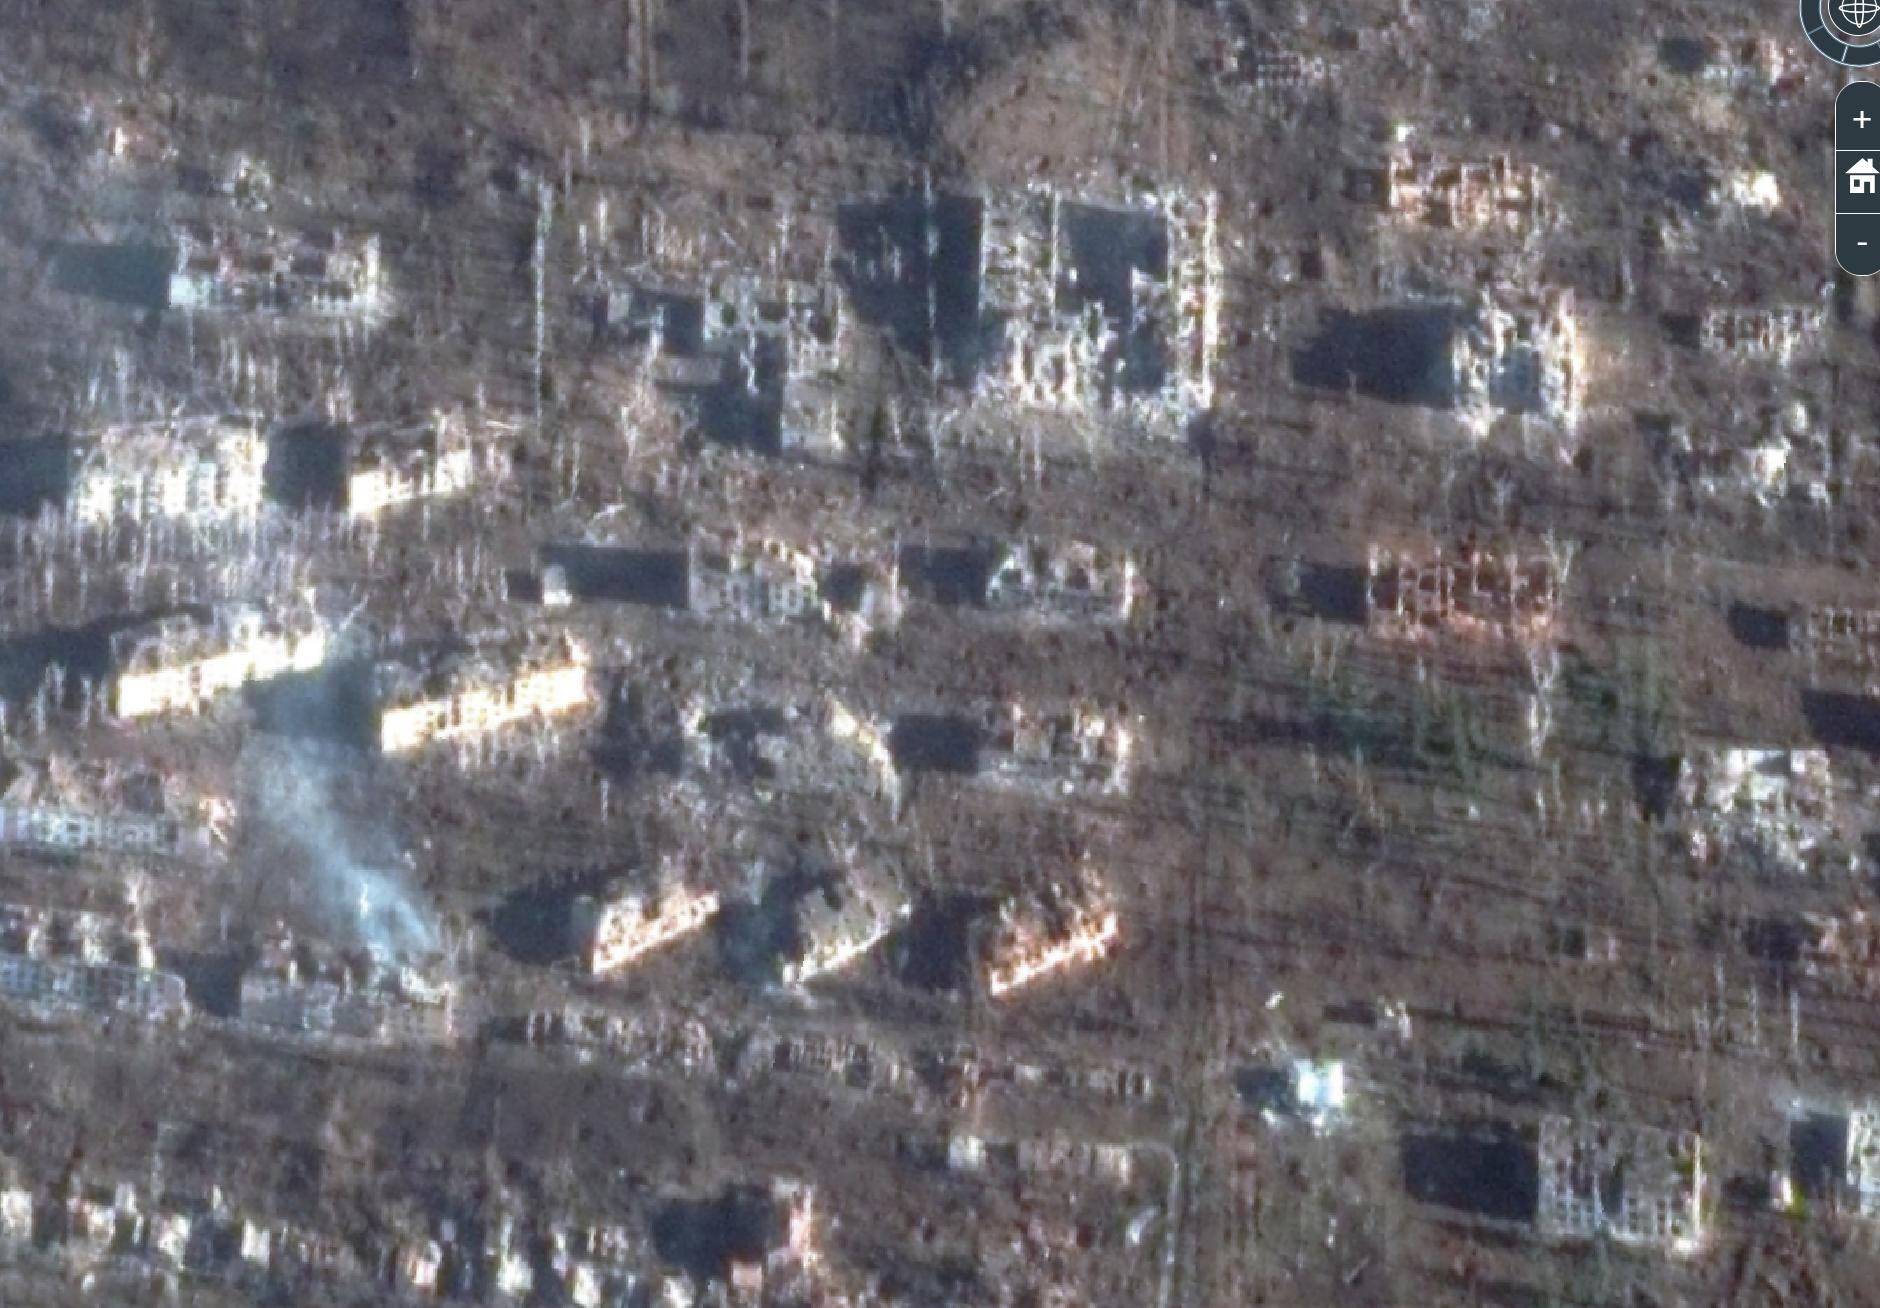demaged-building-high: (544, 191, 879, 483), (986, 177, 1219, 424), (364, 613, 599, 773), (93, 577, 329, 734), (1419, 274, 1607, 441), (51, 423, 284, 535), (683, 515, 907, 633), (333, 393, 527, 527), (680, 697, 909, 808), (0, 763, 247, 865), (956, 858, 1144, 991), (151, 234, 407, 328), (1677, 738, 1853, 872), (1364, 533, 1563, 650), (744, 857, 914, 988), (557, 851, 720, 980), (1381, 133, 1574, 230), (979, 535, 1167, 631), (971, 701, 1157, 798), (1699, 281, 1861, 368)
